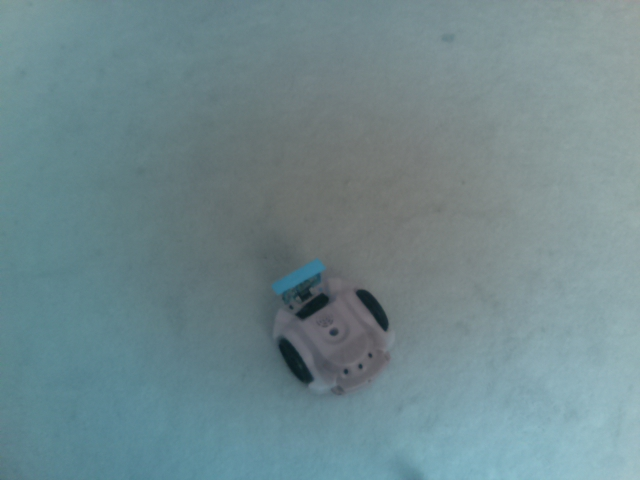board: (265, 249, 325, 304)
chassis: (263, 240, 396, 407)
